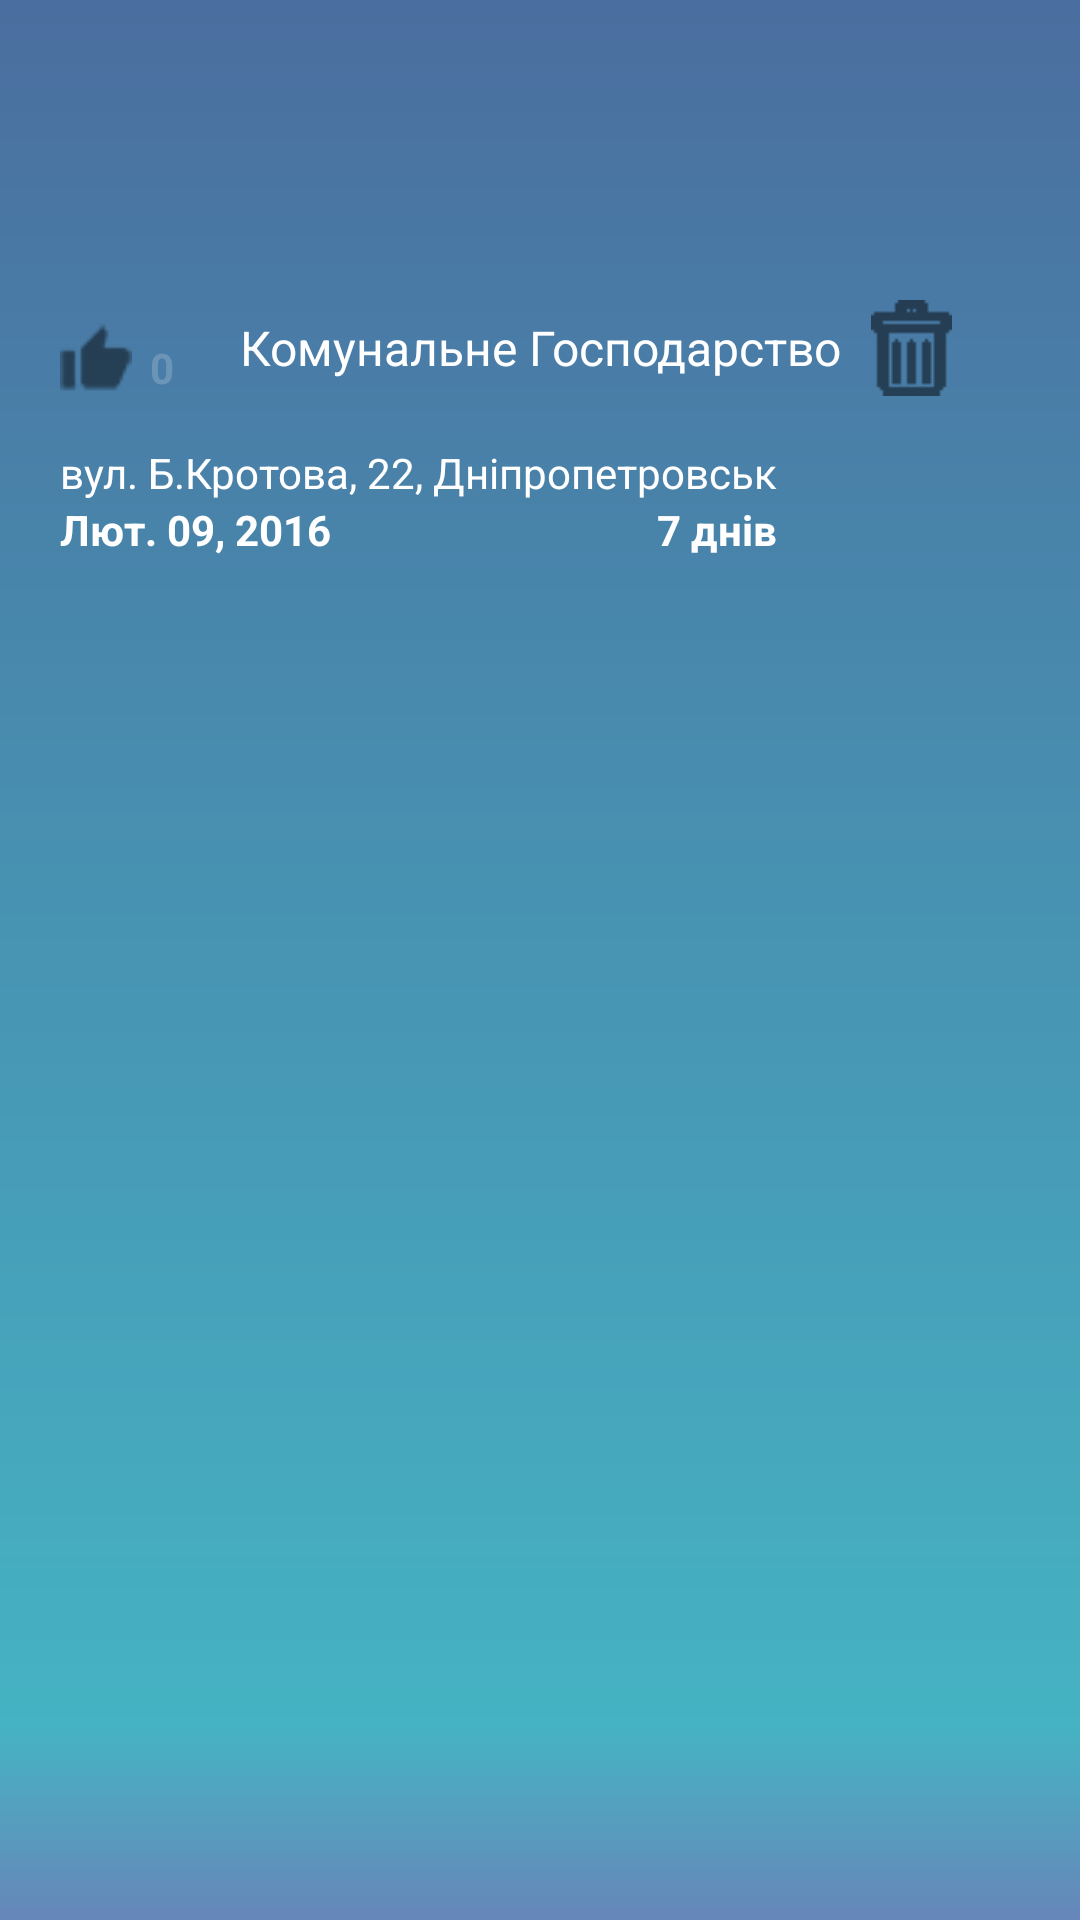

Where to tap for icons on this 1080px x 1920px app screen, as [x,y]:
like: [96,358]
trash: [911,348]
